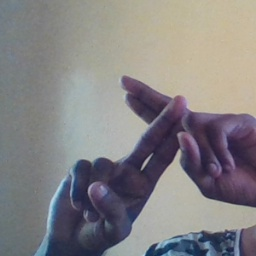F: (90, 71, 239, 200)
